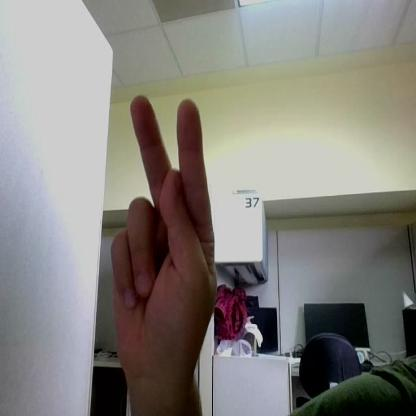K: (112, 96, 216, 375)
